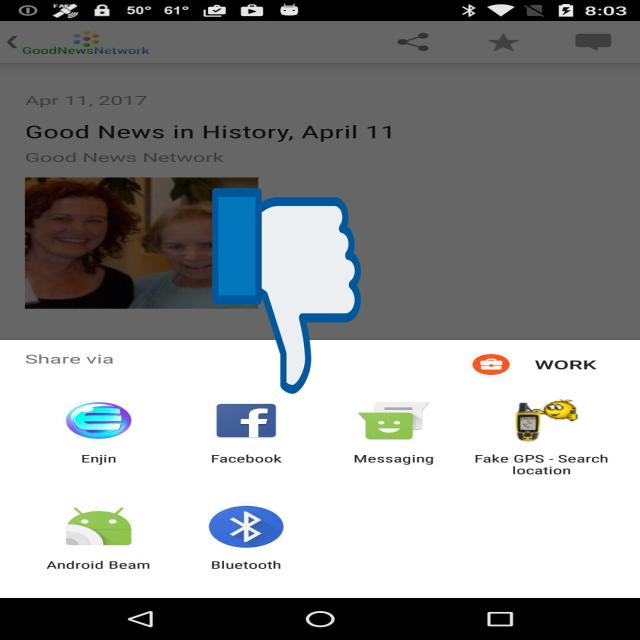obstruction: (212, 184, 361, 398)
